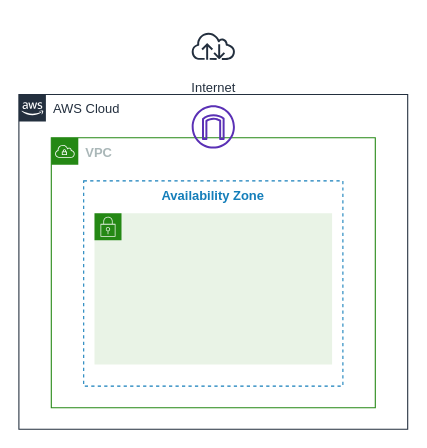
The diagram is 427 pixels wide and 448 high, and some of its shapes have lost their labels. Each missing label, with the centre of its shape:
"Internet Gateway" goes at point 212,126.
"Public subnet A" goes at point 212,288.
